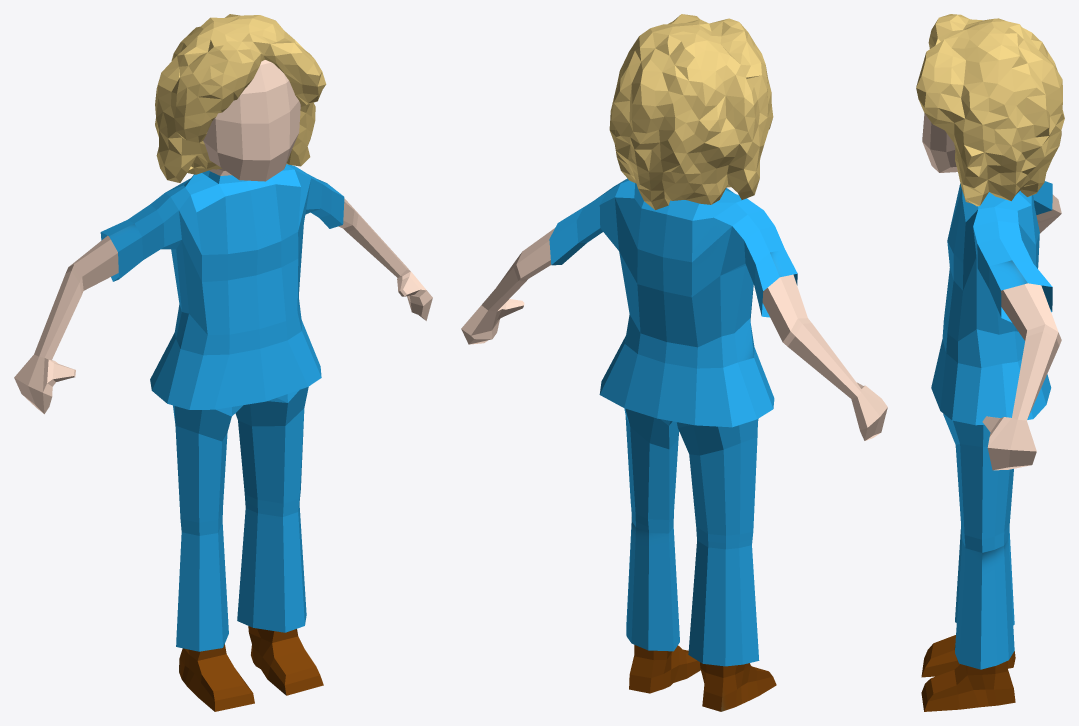
The model's file is player_V2.fbx.
3 renders of one model, left to right at view 1: azimuth 30°, elevation 25°; view 2: azimuth 150°, elevation 25°; view 3: azimuth 270°, elevation 25°, orthographic.
Visible parts, largest first — view 1: Cuerpo, pelo; view 2: Cuerpo, pelo; view 3: Cuerpo, pelo.
Part boxes in pixels (<box>): Cuerpo: <box>14,60,432,711</box>; pelo: <box>155,14,326,182</box>; Cuerpo: <box>461,178,887,711</box>; pelo: <box>609,14,773,209</box>; Cuerpo: <box>921,113,1061,711</box>; pelo: <box>916,14,1064,206</box>.
Bounding box in the file's own units: 119 × 187 × 38.24.
Materials: 2 (1 with a texture image).
